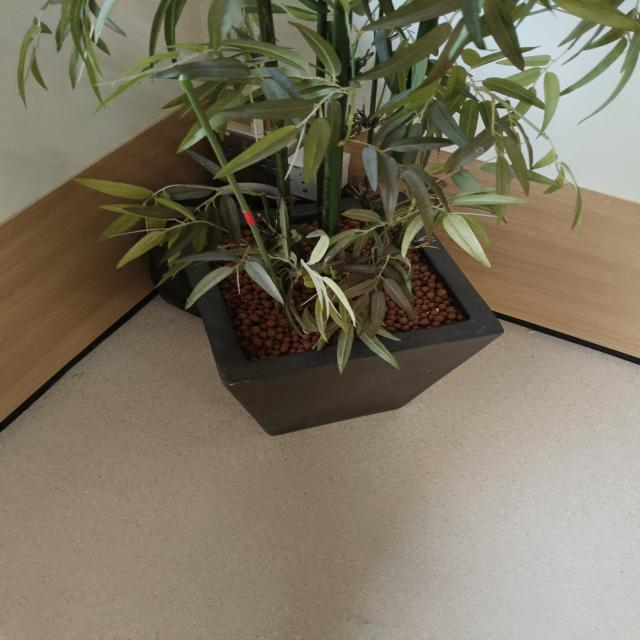Pot: (172, 189, 507, 438)
